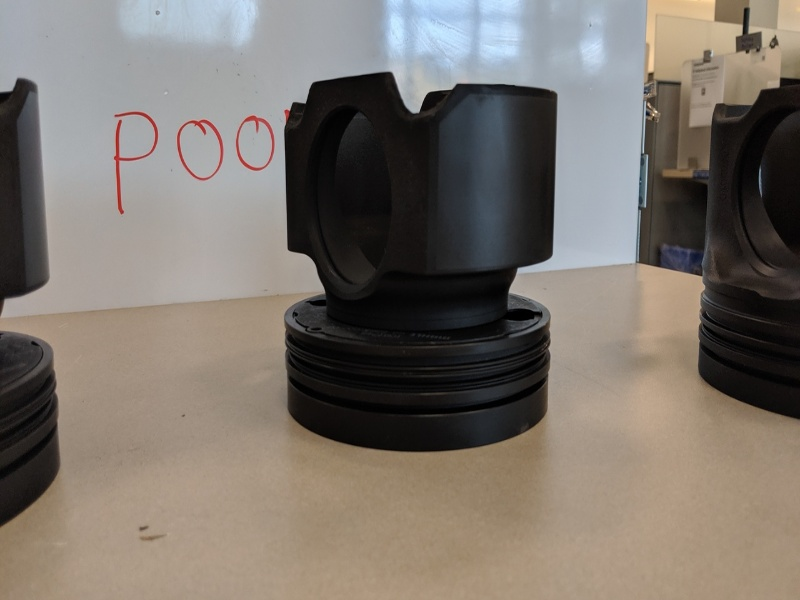piston: (276, 68, 563, 458), (696, 84, 800, 424)
